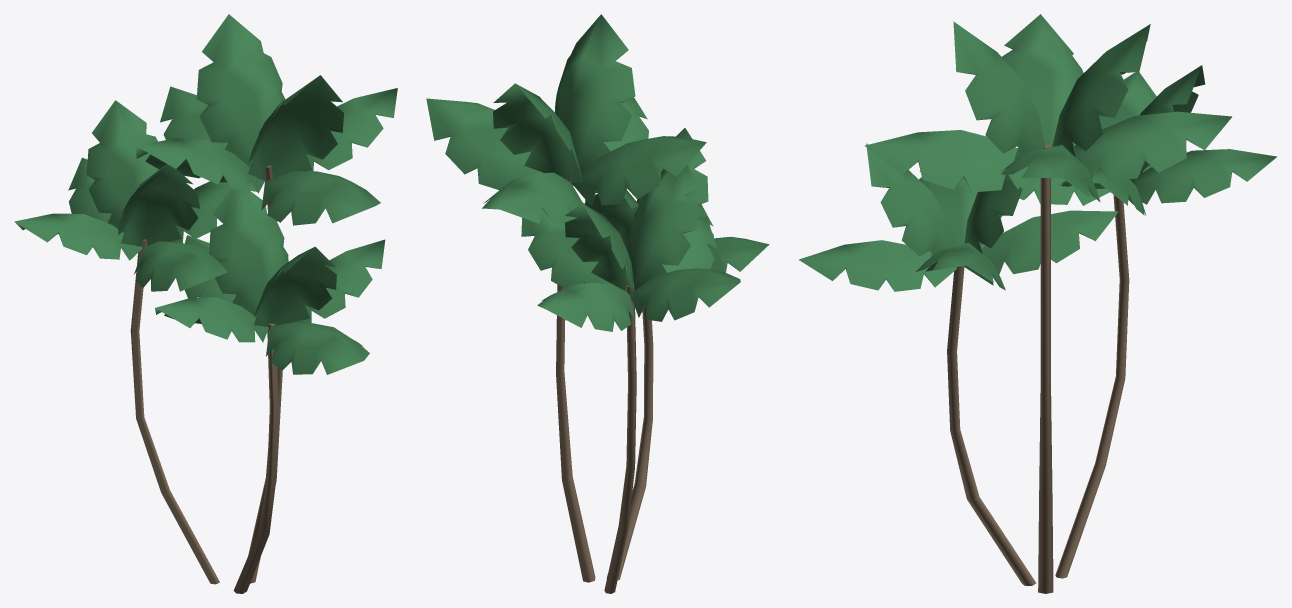
Rendered from PalmTree06.fbx.
3 views of the same model, side by side, from view 1: azimuth 30°, elevation 25°; view 2: azimuth 150°, elevation 25°; view 3: azimuth 270°, elevation 25° (orthographic). The views are drawn at different scales.
Visible parts, largest first — view 1: PalmTree06; view 2: PalmTree06; view 3: PalmTree06.
Boxes of the visible parts, <box> form: PalmTree06: <box>14,14,397,593</box>; PalmTree06: <box>426,14,769,593</box>; PalmTree06: <box>799,14,1276,593</box>.
Size of the model in its own units: 0.5689 by 0.8247 by 0.6099.
